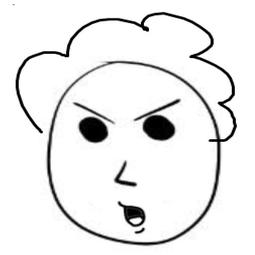eye: (138, 111, 182, 144), (78, 112, 111, 144)
frowning_eyebrow: (131, 95, 185, 122), (70, 99, 118, 128)
open_mouth: (120, 203, 152, 227)
pointy_nose: (108, 161, 144, 187)
